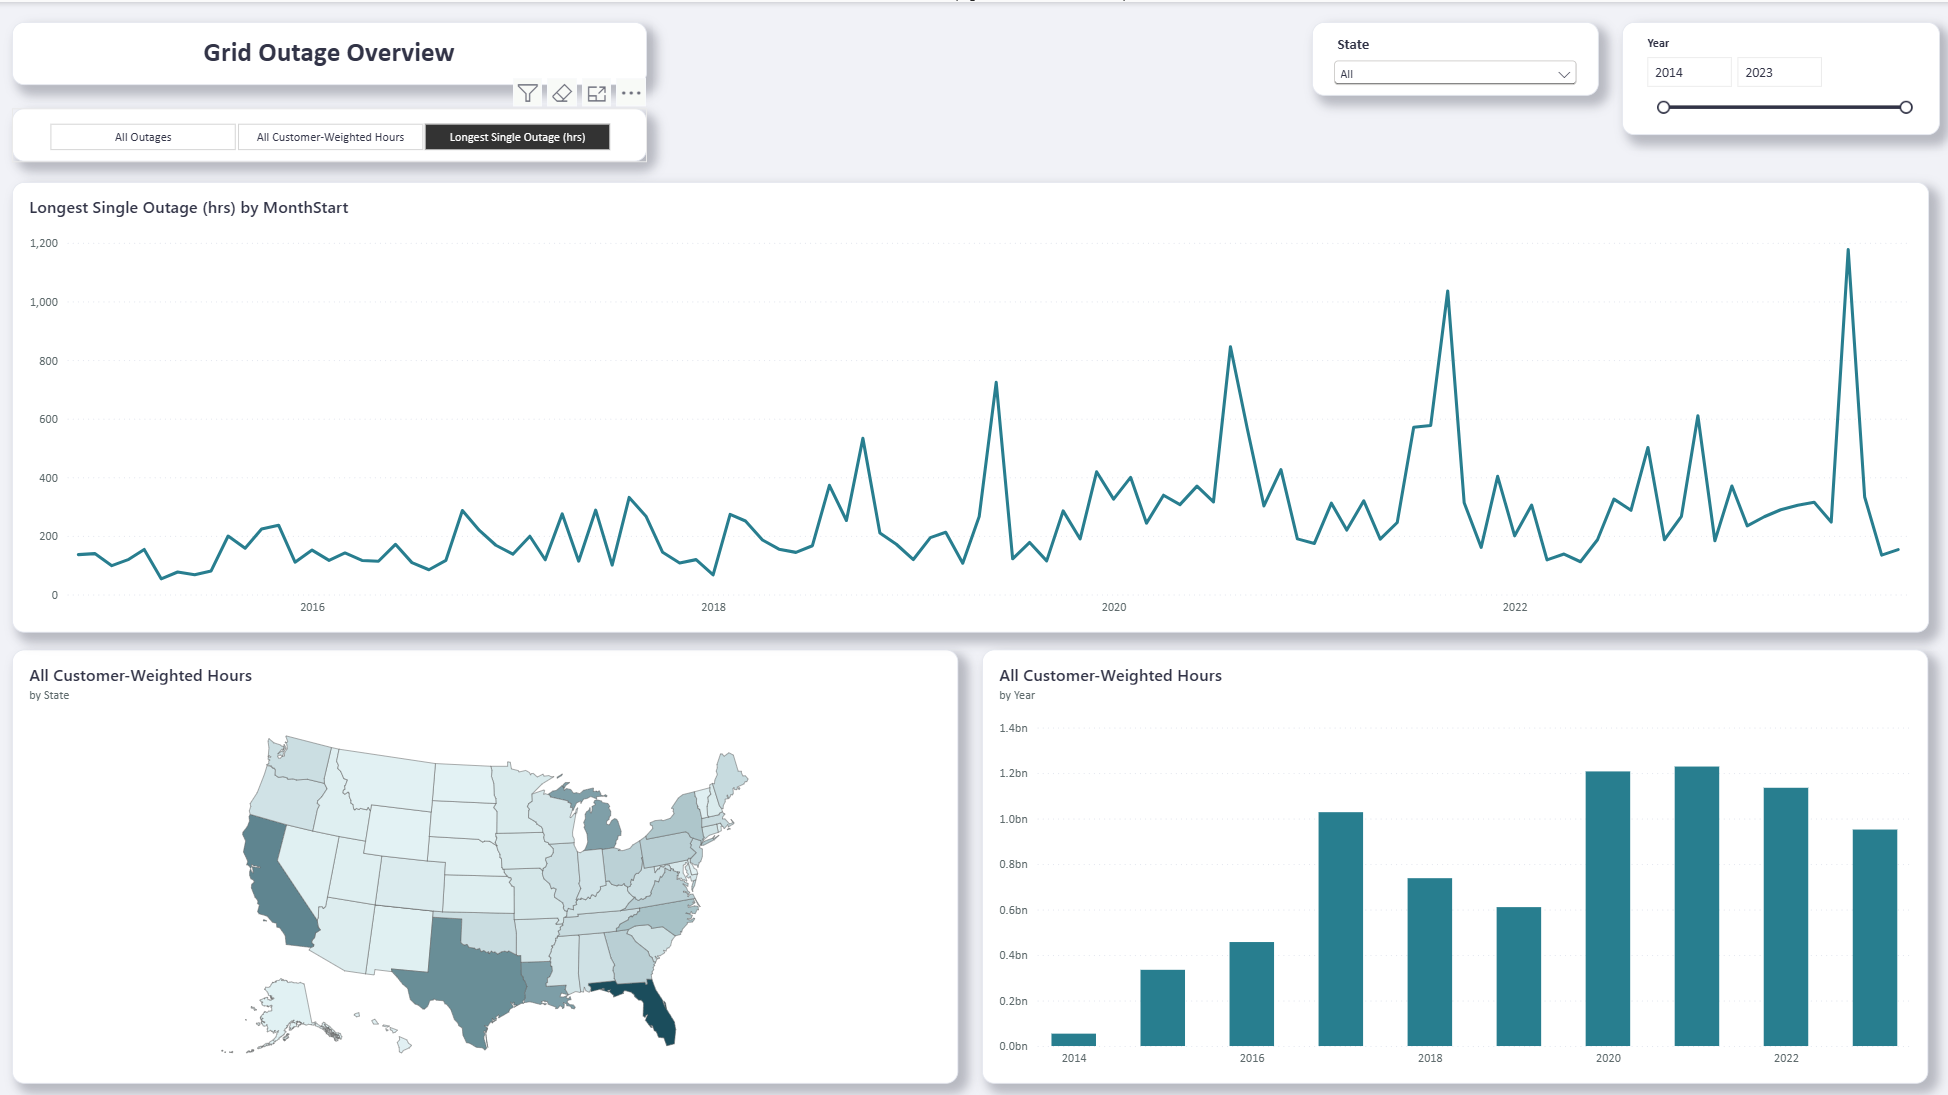

The dashboard page shown, as its layout file describes it:
{"tool":"powerbi","page":{"name":"Overview","canvas":[1920,1080],"ordinal":0},"visuals":[{"type":"textbox","box":[24.3,20,620,61.4],"z":0},{"type":"slicer","fields":{"Values":["DimDate.Year"]},"box":[1597.1,20,310,110],"z":1000},{"type":"slicer","fields":{"Values":["DimState.State"]},"box":[1294.3,20,280,72],"z":2000},{"type":"shapeMap","fields":{"Category":["DimState.State"],"Value":["_Measures.All Customer-Weighted Hours"]},"box":[24,632,924,424],"z":3000},{"type":"slicer","fields":{"Values":["Metric.Metric"]},"box":[24.3,104.3,620,52],"z":4000},{"type":"lineChart","fields":{"Category":["DimDate.MonthStart"],"Y":["_Measures.Longest Single Outage (hrs)"]},"box":[24,176,1872,440],"z":5000},{"type":"clusteredColumnChart","fields":{"Category":["DimDate.Year"],"Y":["_Measures.All Customer-Weighted Hours"]},"box":[972,632,924,424],"z":6000}]}

Visuals, with their boxes in screenshot pixels (x1, y1, x2, y2), scaled from the page's 1920x1080 canvas onto the 1948x1095 screenshot:
textbox: bbox=[25, 20, 654, 83]
slicer - DimDate.Year: bbox=[1620, 20, 1935, 132]
slicer - DimState.State: bbox=[1313, 20, 1597, 93]
shapeMap - DimState.State x _Measures.All Customer-Weighted Hours: bbox=[24, 641, 962, 1071]
slicer - Metric.Metric: bbox=[25, 106, 654, 158]
lineChart - DimDate.MonthStart x _Measures.Longest Single Outage (hrs): bbox=[24, 178, 1924, 625]
clusteredColumnChart - DimDate.Year x _Measures.All Customer-Weighted Hours: bbox=[986, 641, 1924, 1071]
